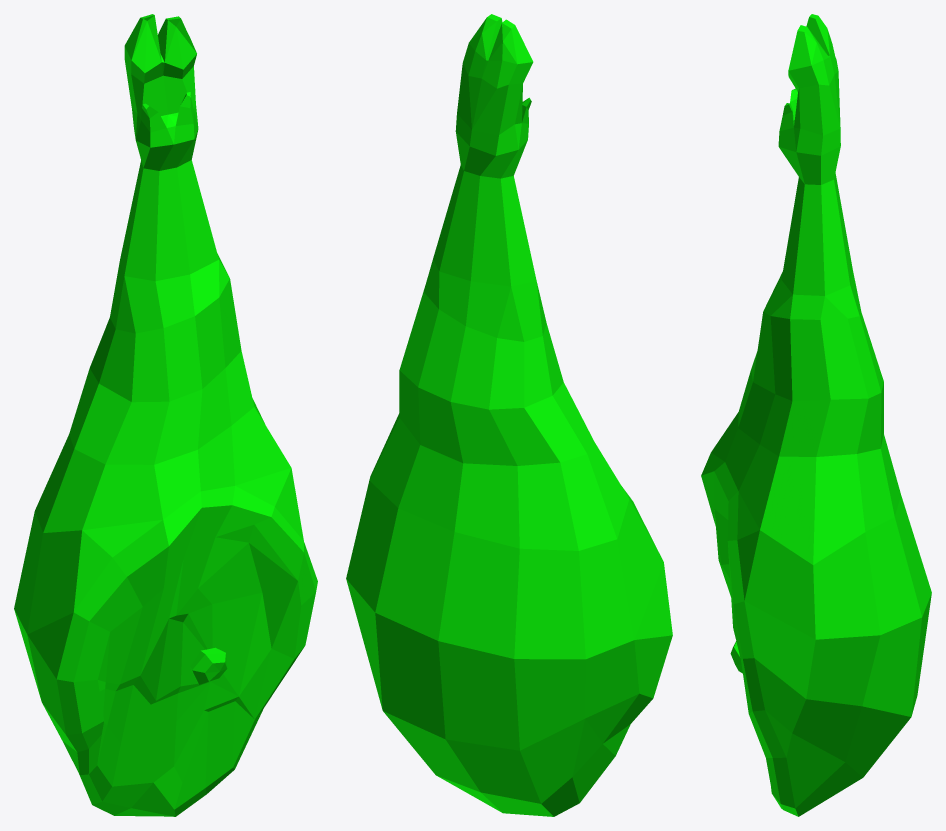
File: SM_Leg_Pork_Sliced_Hanging.fbx
3 views of the same model, side by side, from view 1: azimuth 30°, elevation 25°; view 2: azimuth 150°, elevation 25°; view 3: azimuth 270°, elevation 25° (orthographic).
Parts seen in each view (by area): view 1: leg-pork-sliced-hanging; view 2: leg-pork-sliced-hanging; view 3: leg-pork-sliced-hanging.
Part boxes in pixels (bbox=[...]): leg-pork-sliced-hanging: bbox=[14, 14, 317, 816]; leg-pork-sliced-hanging: bbox=[346, 14, 672, 816]; leg-pork-sliced-hanging: bbox=[701, 14, 931, 816].
Bounding box in the file's own units: 0.3615 × 1 × 0.2636.
